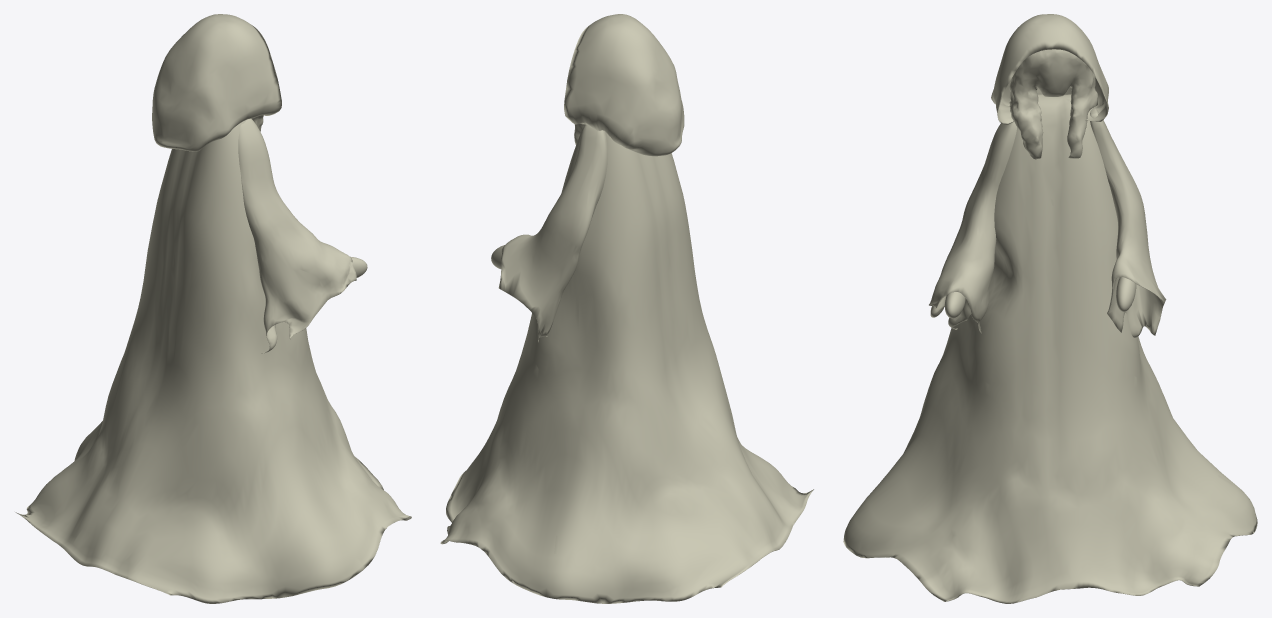
Rendered from HoloGramLowP.fbx.
The picture shows the model from 3 angles, left to right: view 1: azimuth 30°, elevation 25°; view 2: azimuth 150°, elevation 25°; view 3: azimuth 270°, elevation 25°; orthographic projection. The views are drawn at different scales.
Visible parts, largest first — view 1: HoloGramWomanLowP; view 2: HoloGramWomanLowP; view 3: HoloGramWomanLowP.
Boxes of the visible parts, x1,y1,x2,y2 form: HoloGramWomanLowP: (15, 14, 411, 603); HoloGramWomanLowP: (440, 14, 813, 603); HoloGramWomanLowP: (843, 14, 1257, 603).
Size of the model in its own units: 96 by 83.96 by 135.
